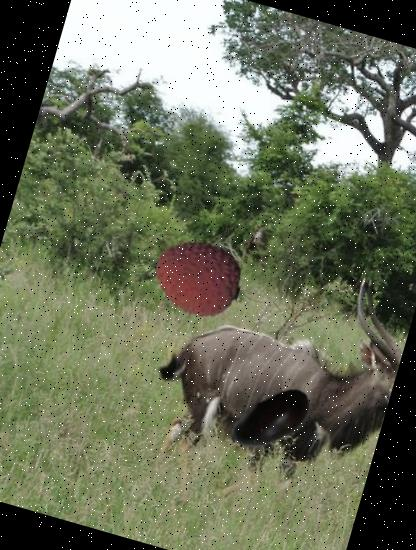Eggplant: (214, 364, 326, 477)
Lychee: (141, 223, 252, 334)
